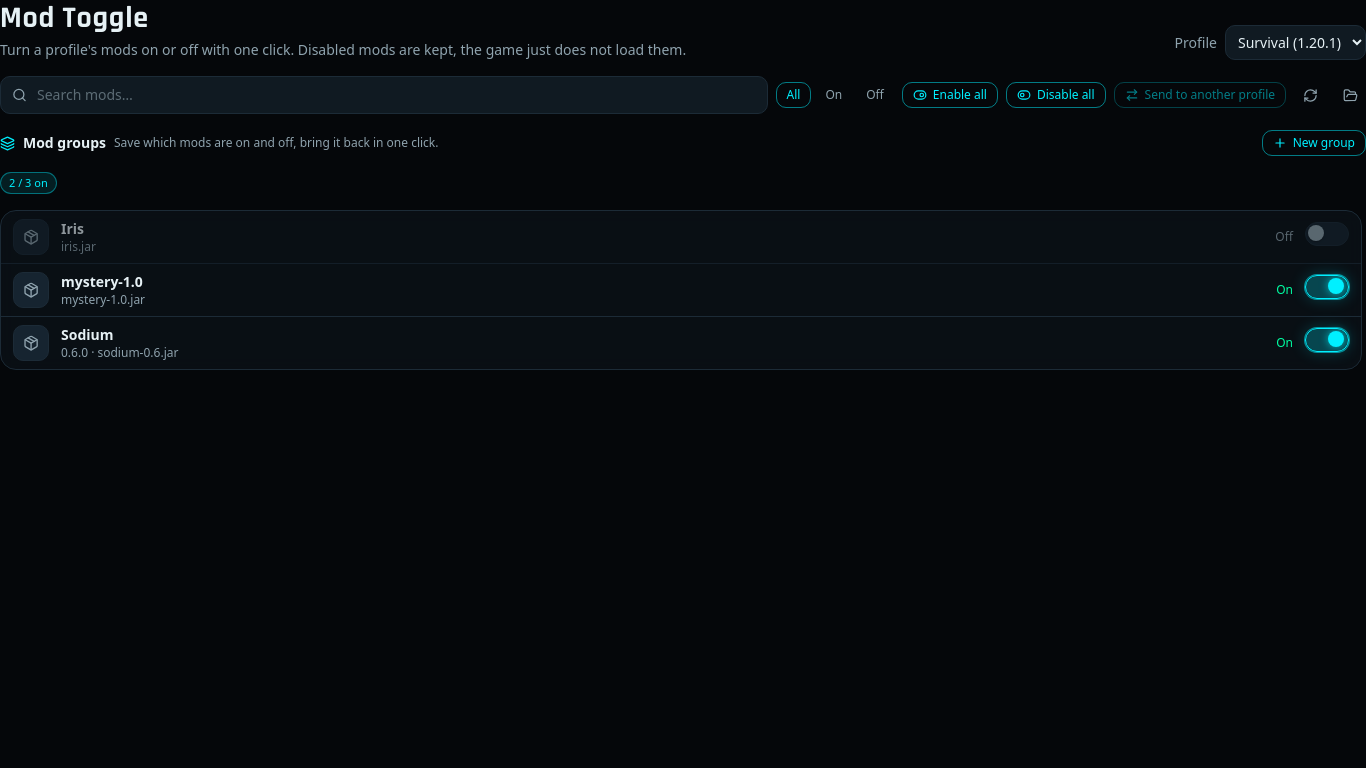
Test: ModTogglePage › records the current on/off state as a new group, with only a name
The image size is (1366, 768).
Expected: the text "Sodium" is shown, [61, 325, 114, 344]
Click the button "New group" at x=1314, y=143, box [1262, 130, 1365, 156]
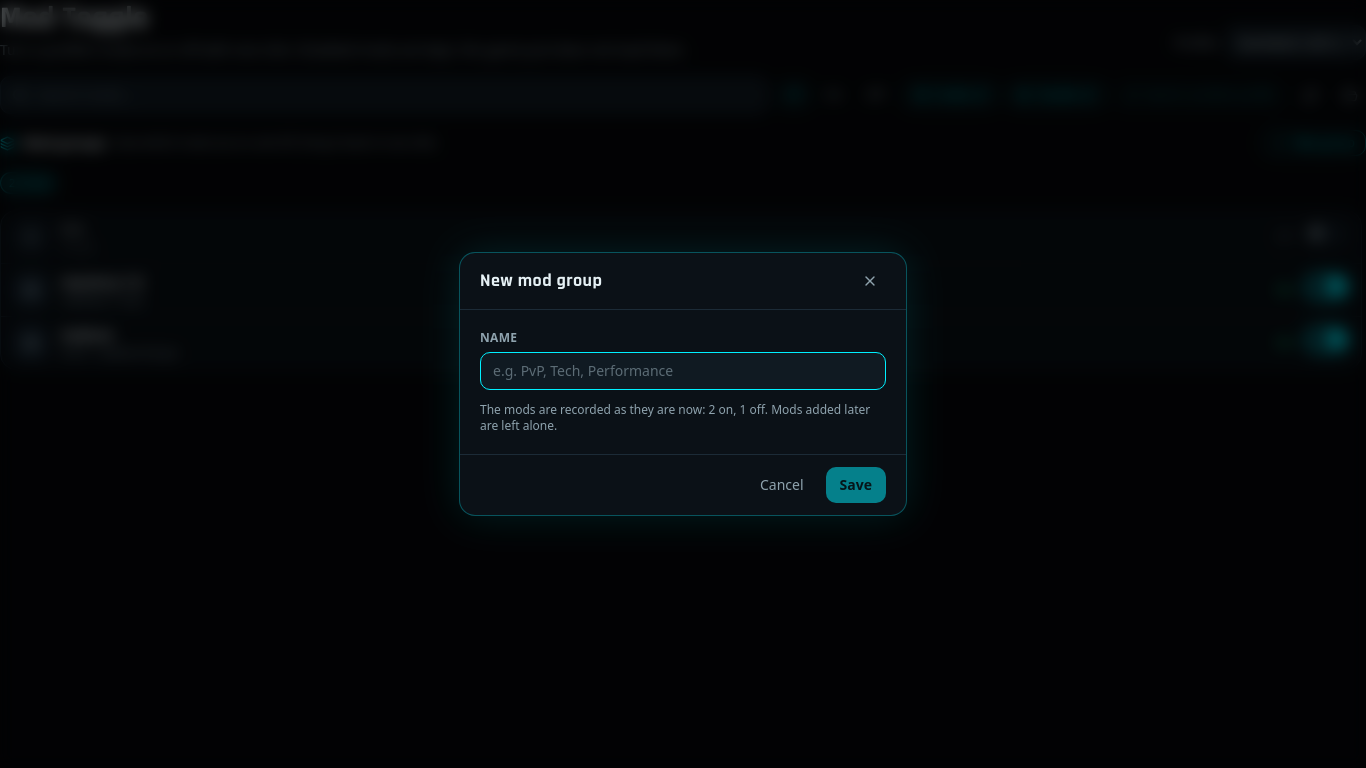
Result: the dialog "New mod group" shows "2 on, 1 off" at [480, 401, 870, 434]
Result: the button "Save" is disabled at [826, 467, 886, 503]
Type "  Survival " into the field labelled "Name" at x=683, y=371, box [480, 352, 886, 390]
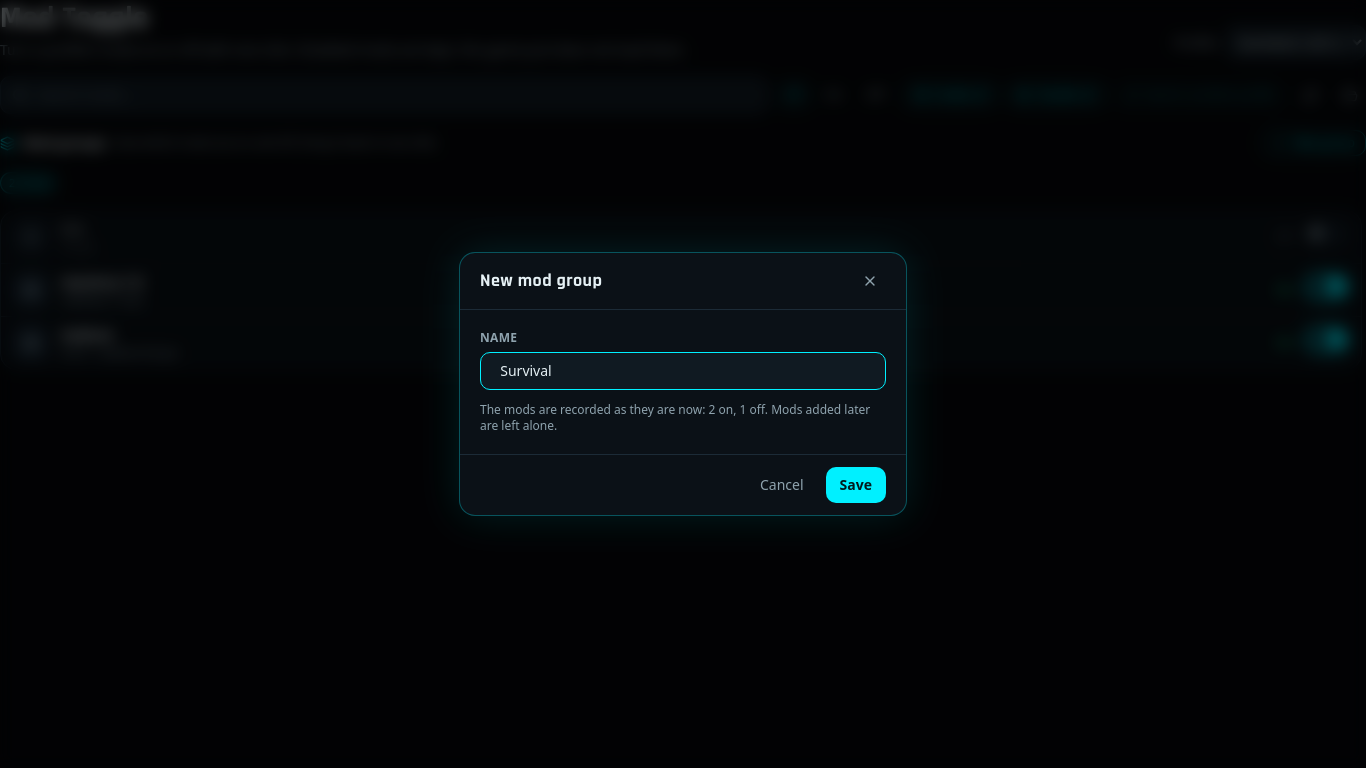
Click the button "Save" at x=856, y=485, box [826, 467, 886, 503]
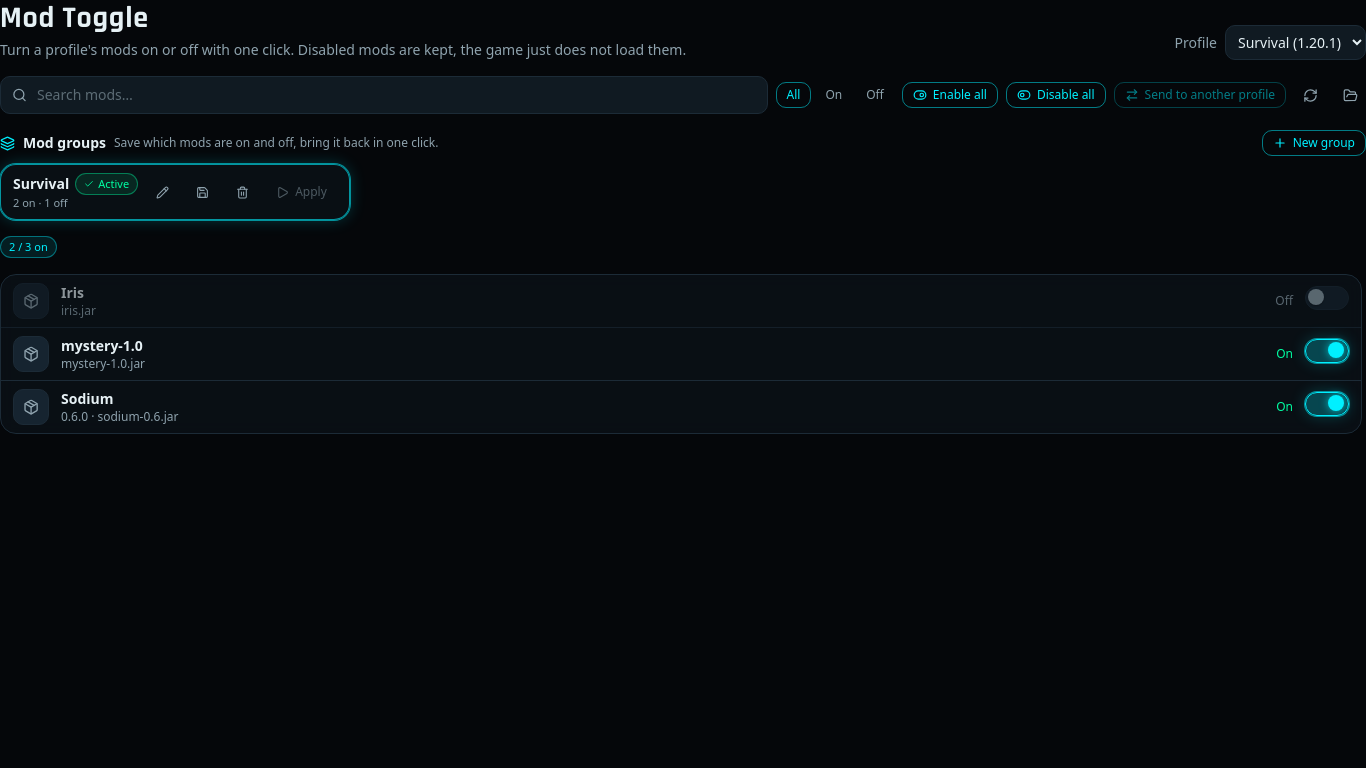
Result: the text "Active" is shown at [75, 173, 138, 195]
Result: the button with aria-label "Apply group Survival" is disabled at [266, 180, 337, 204]
